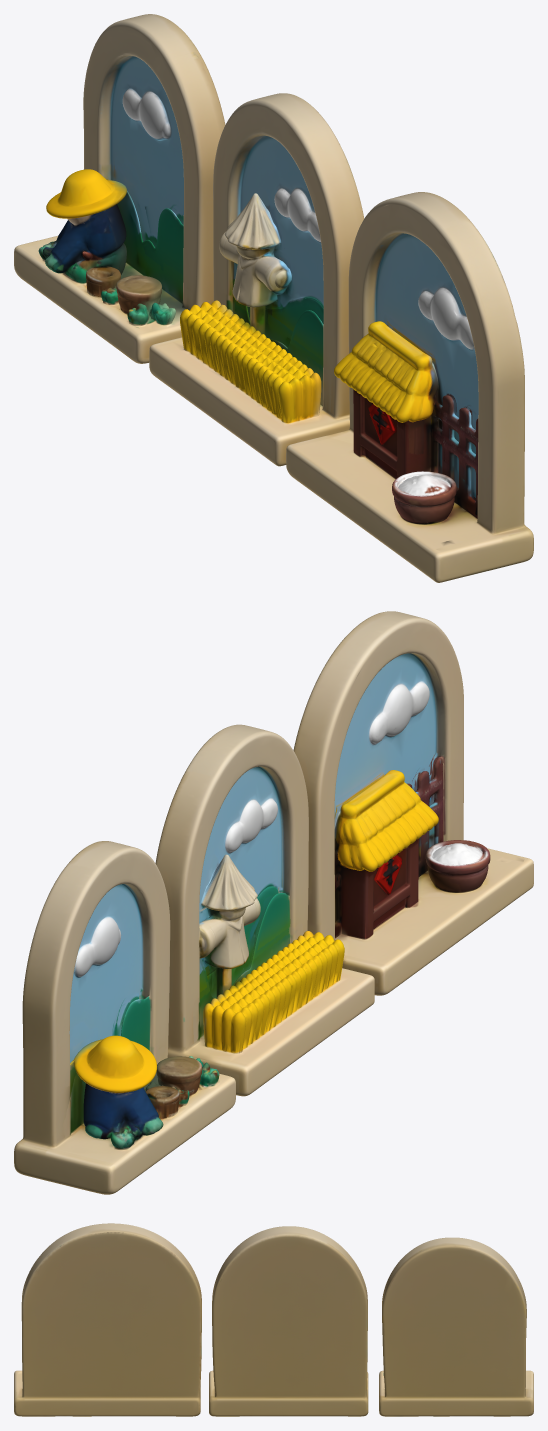
The model's file is award-14.glb.
3 views of the same model, one above another, from view 1: azimuth 30°, elevation 25°; view 2: azimuth 150°, elevation 25°; view 3: azimuth 270°, elevation 25° (orthographic). The views are drawn at different scales.
Parts seen in each view (by area): view 1: node_0; view 2: node_0; view 3: node_0.
Part boxes in pixels (x1,y1,x2,y2): node_0: [14, 14, 533, 582]; node_0: [14, 611, 533, 1194]; node_0: [14, 1223, 533, 1416].
Bounding box in the file's own units: 0.1607 × 0.437 × 1.11.
Materials: 1 (1 with a texture image).
